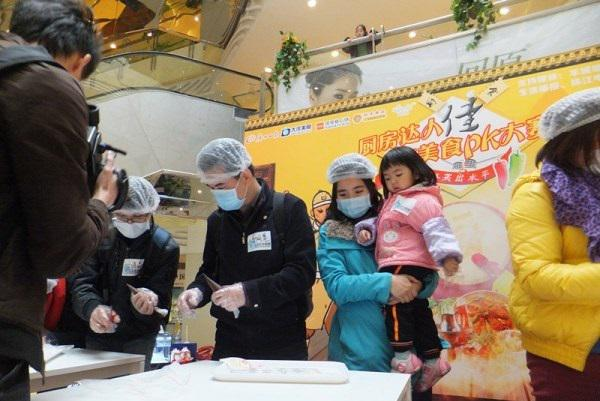NONE: (386, 169, 412, 194)
OK: (209, 178, 248, 214), (117, 211, 154, 241), (336, 184, 369, 217)
